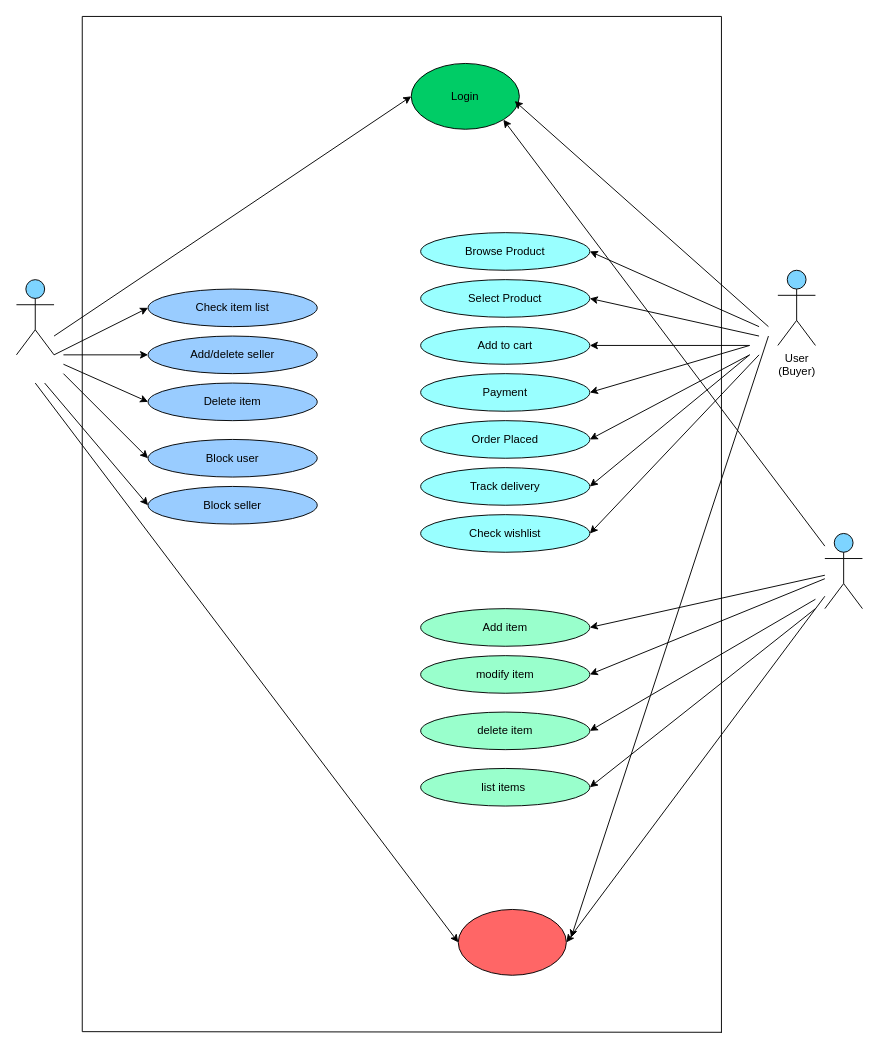
The diagram is 879 pixels wide and 1051 high, and some of its shapes have lost their labels. Each missing label, with the centre of its shape:
Admin: (x=35, y=317)
Logout: (x=511, y=942)
Seller: (x=843, y=571)
